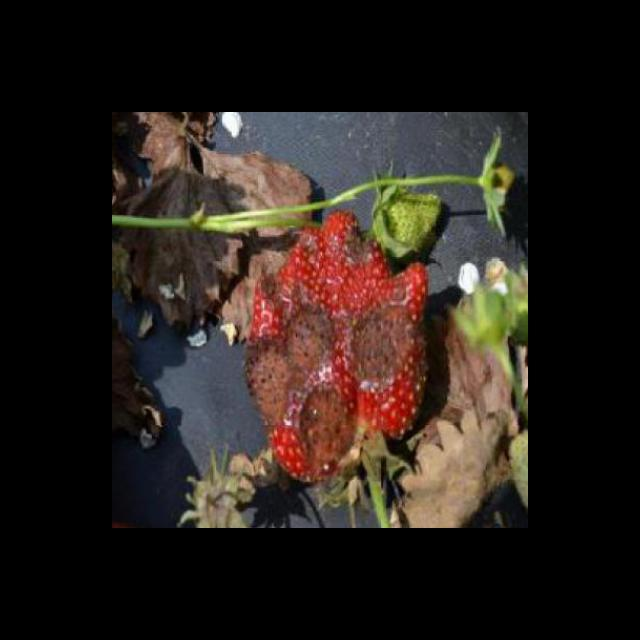Anthracnose Fruit Rot: (239, 209, 428, 482)
